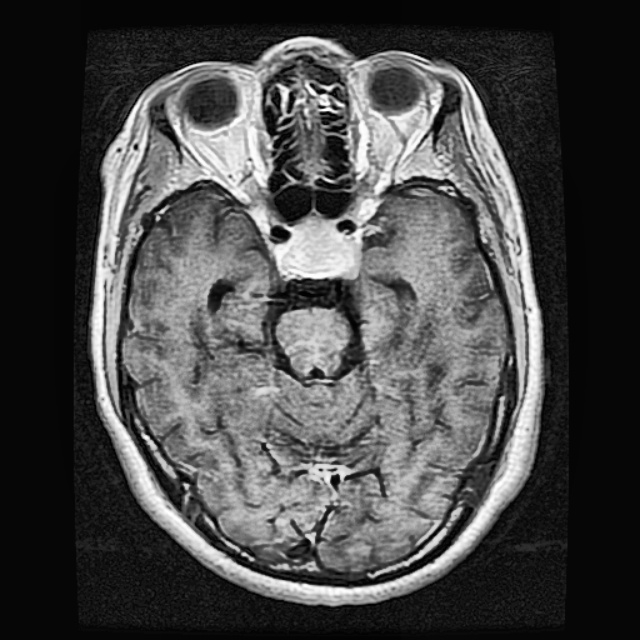Pituitary: (278, 217, 362, 279)
